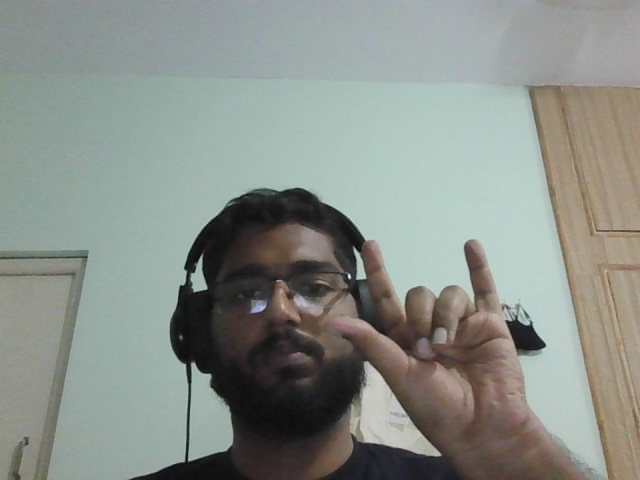I Love You: (336, 240, 562, 465)
